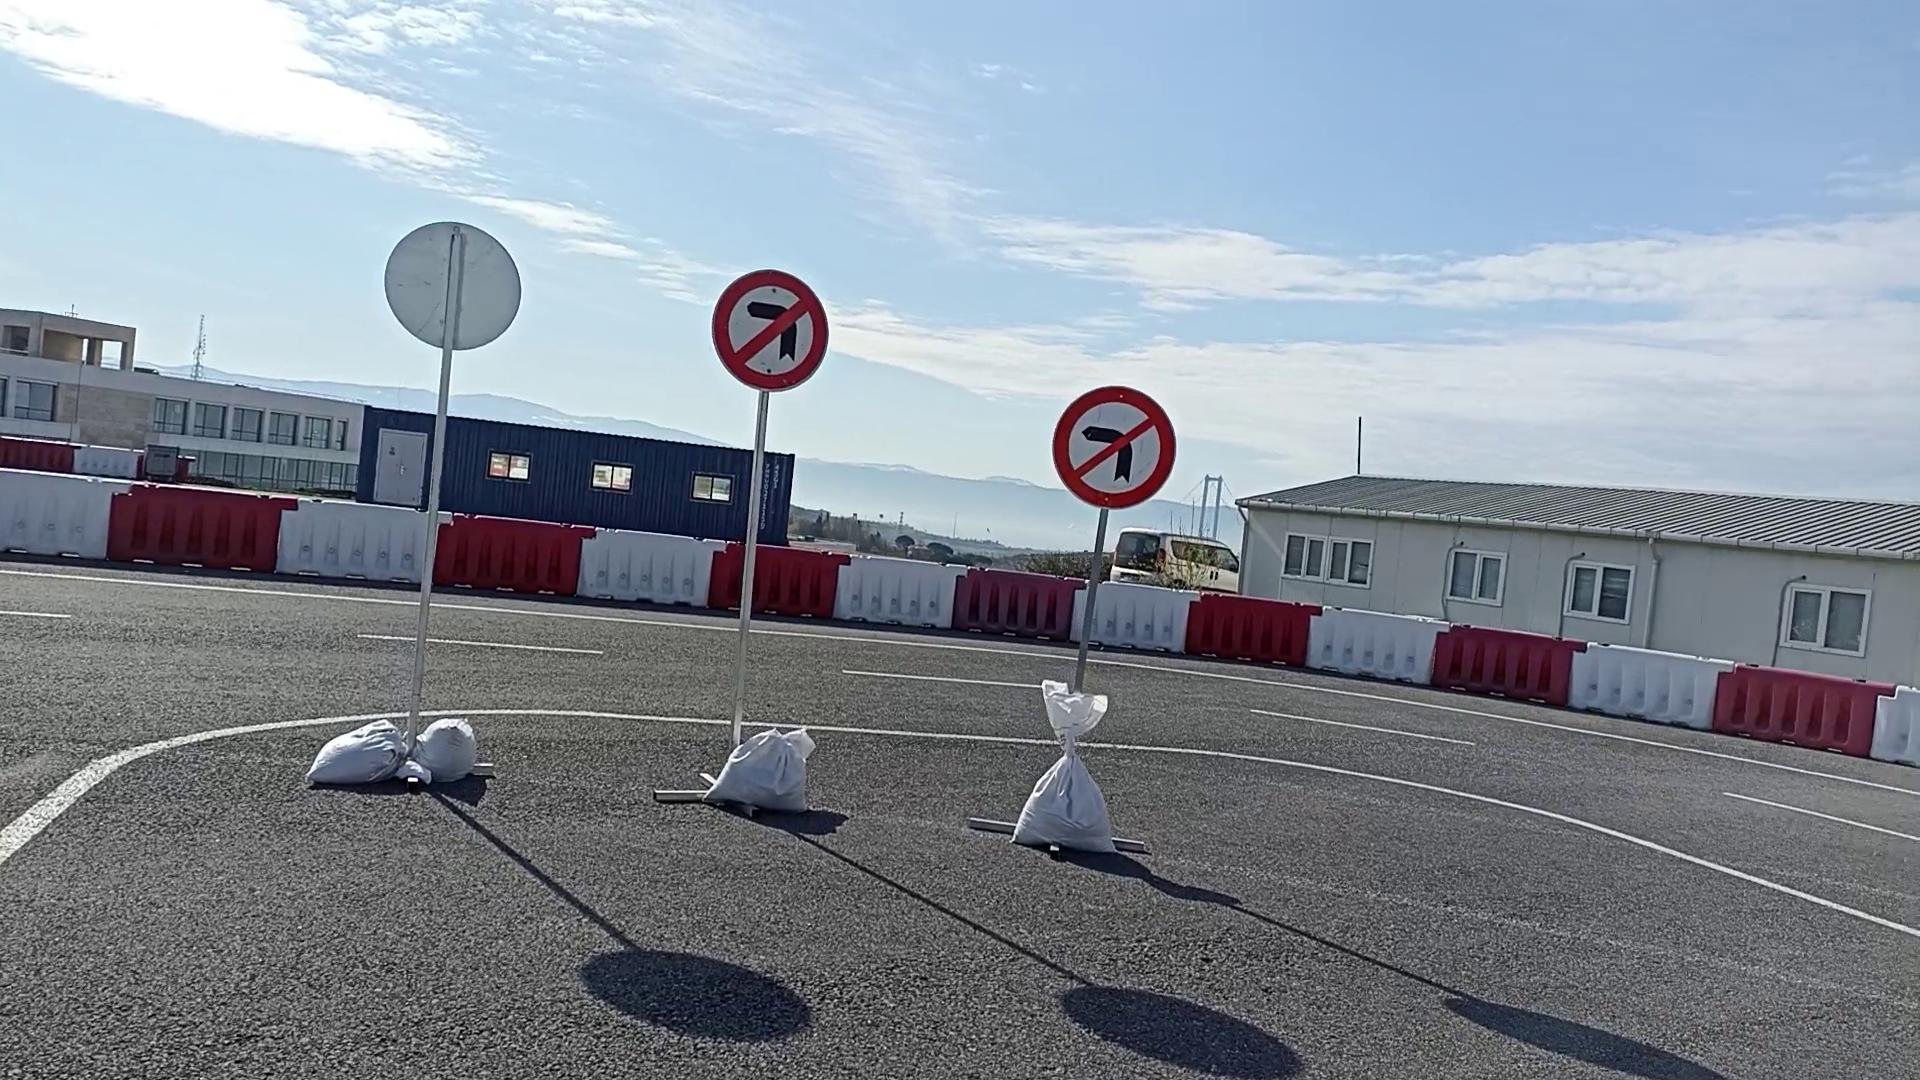noleft: (1048, 384, 1178, 513), (709, 266, 831, 392)
